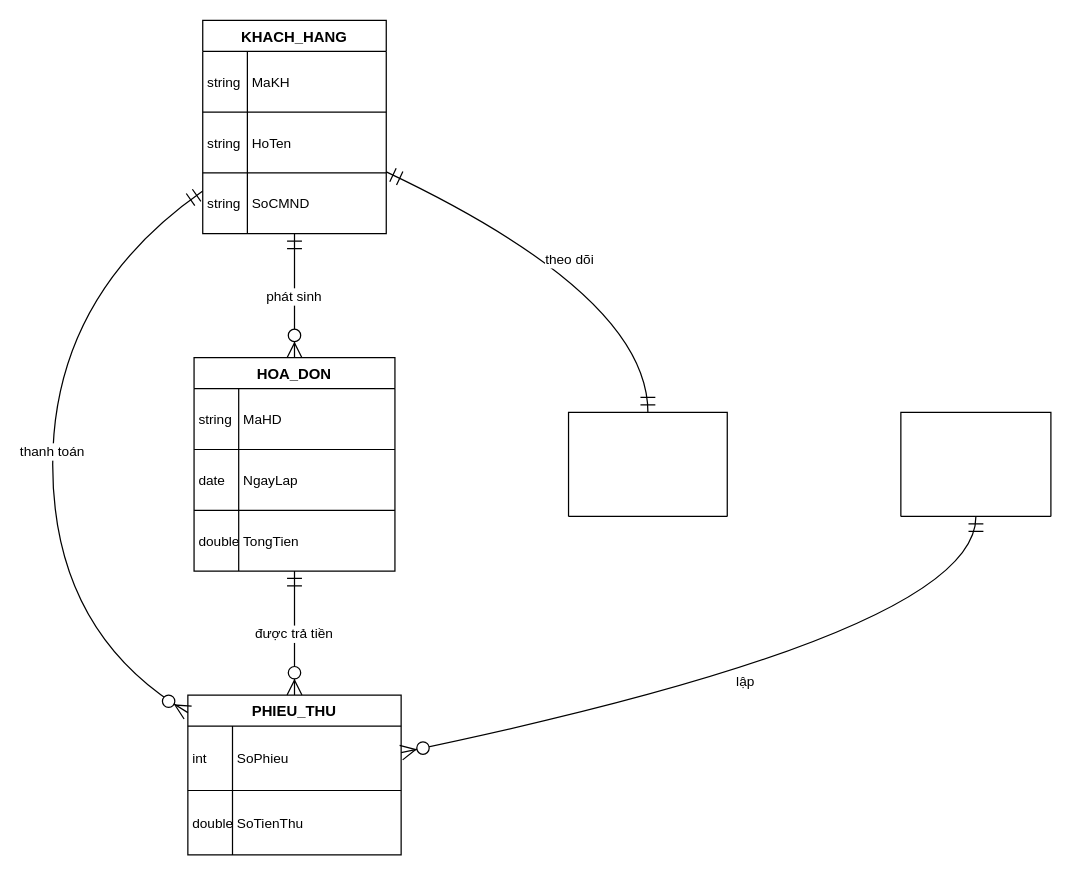
Some shapes in this 1071 by 875 pixel diagram are drawn without their labels. Here are the shapes that lost their labels. From the top down, the centre of each, then its label:
At pixel 647 463: "TAP_TIN_NO".
At pixel 975 463: "NHAN_VIEN".
